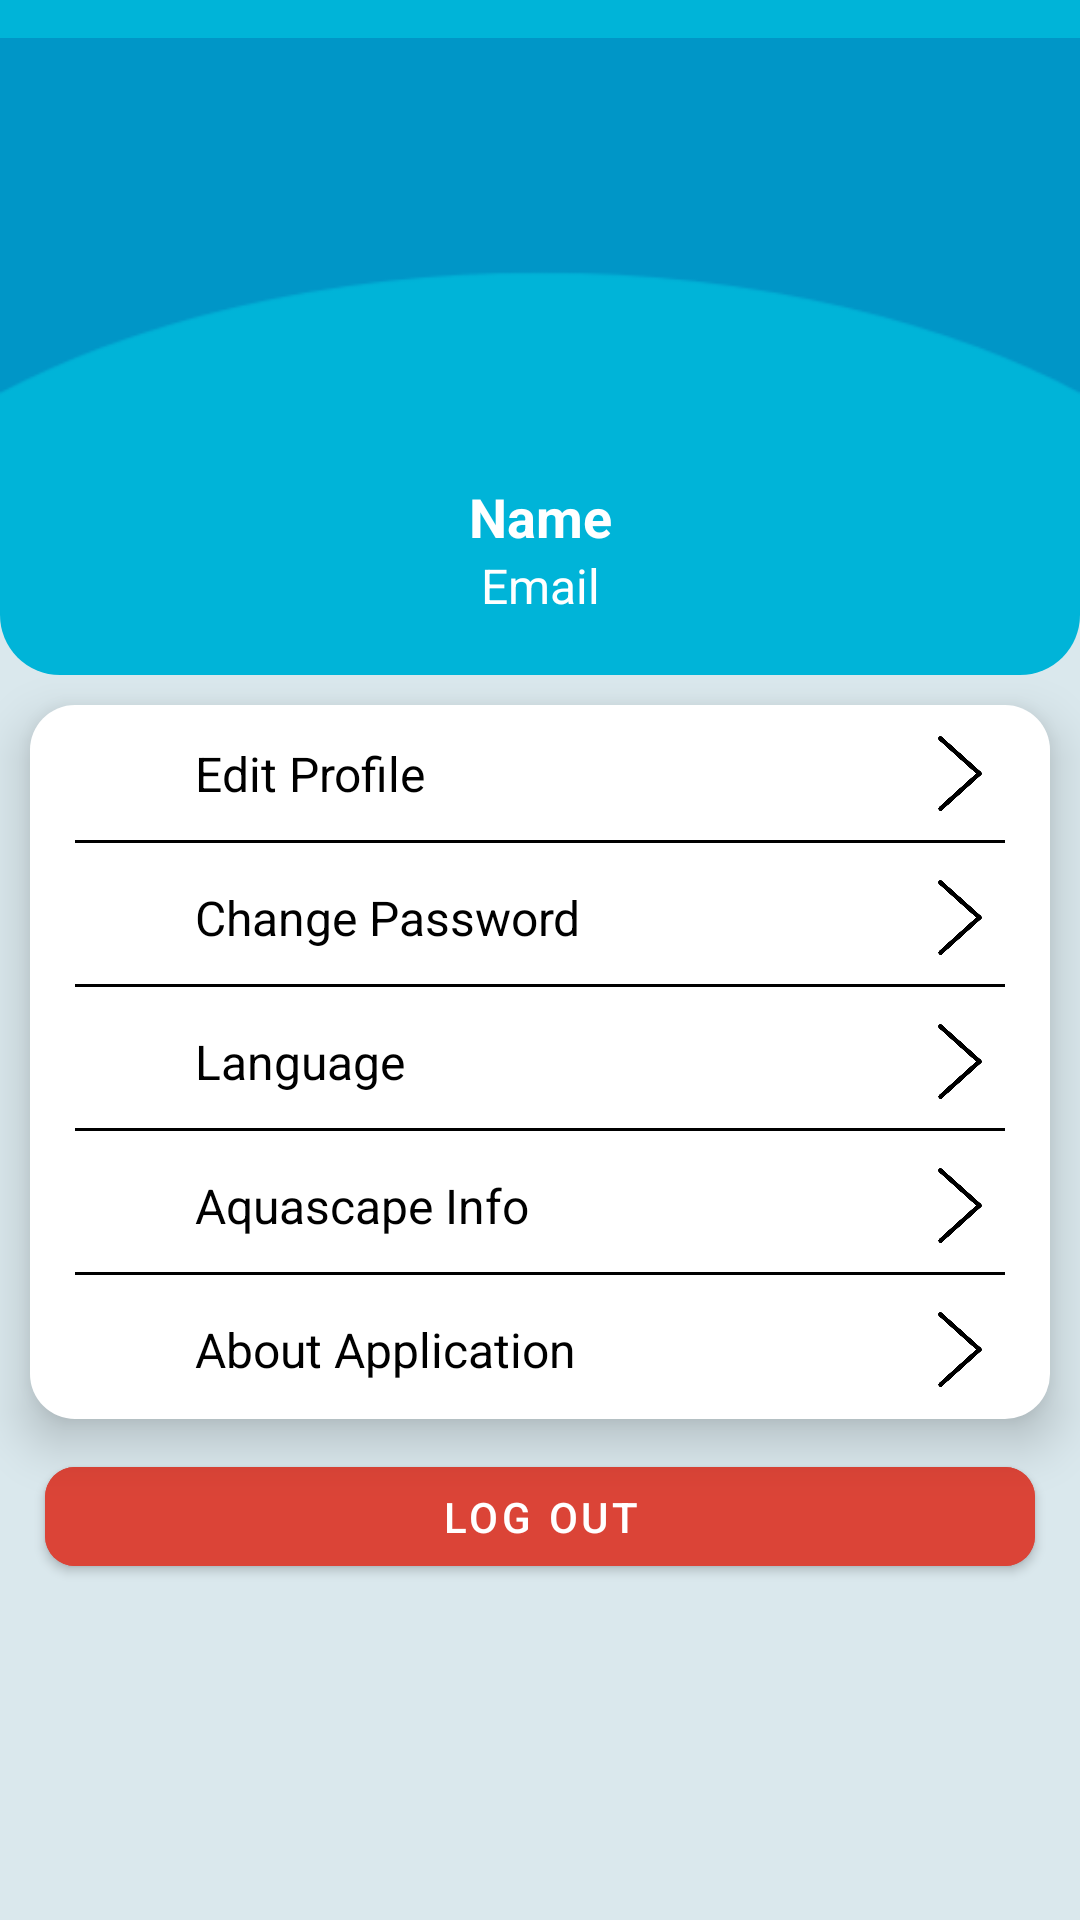

Icon click points for this 1080 x 1920 phone screenshot, format (x=x, y=y):
more: (x=960, y=773), (x=960, y=917), (x=960, y=1061), (x=960, y=1205), (x=960, y=1349)
